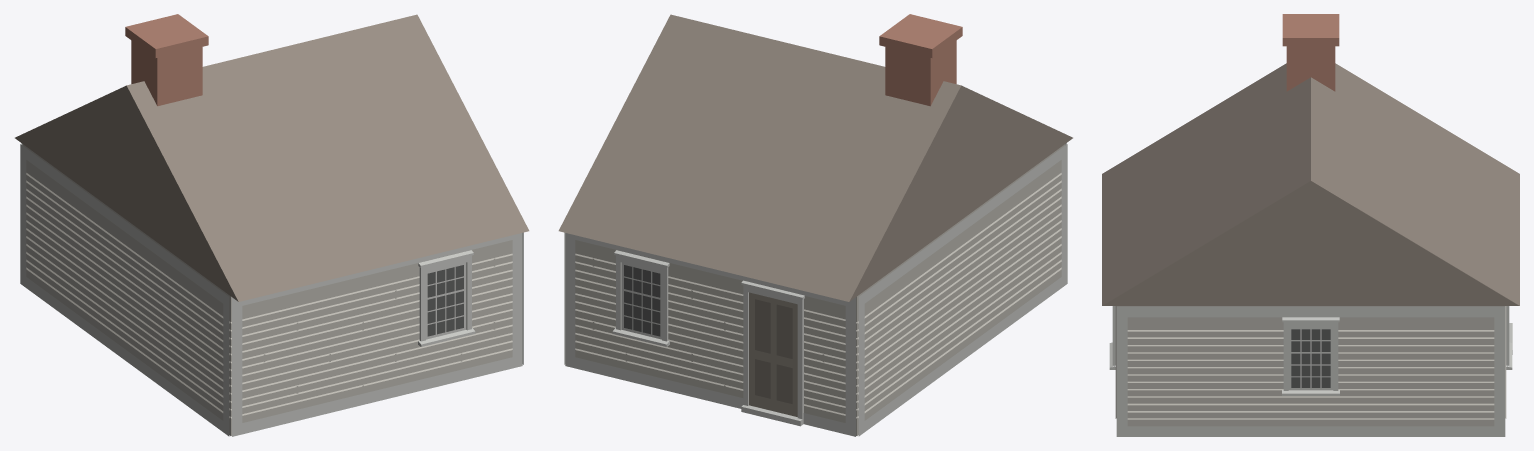
File: recon_1835_blk_school_section_tier_119_d3_05__inferred_1835.glb
3 views of the same model, side by side, from view 1: azimuth 30°, elevation 25°; view 2: azimuth 150°, elevation 25°; view 3: azimuth 270°, elevation 25° (orthographic). The views are drawn at different scales.
Visible parts, largest first — view 1: recon_1835_blk_school_section_tier_119_d3_05__inferred_1835; view 2: recon_1835_blk_school_section_tier_119_d3_05__inferred_1835; view 3: recon_1835_blk_school_section_tier_119_d3_05__inferred_1835.
Part boxes in pixels (x1,y1,x2,y2): recon_1835_blk_school_section_tier_119_d3_05__inferred_1835: [15, 14, 529, 436]; recon_1835_blk_school_section_tier_119_d3_05__inferred_1835: [558, 14, 1072, 436]; recon_1835_blk_school_section_tier_119_d3_05__inferred_1835: [1102, 14, 1519, 436].
Bounding box in the file's own units: 5.55 × 5.65 × 7.21.
